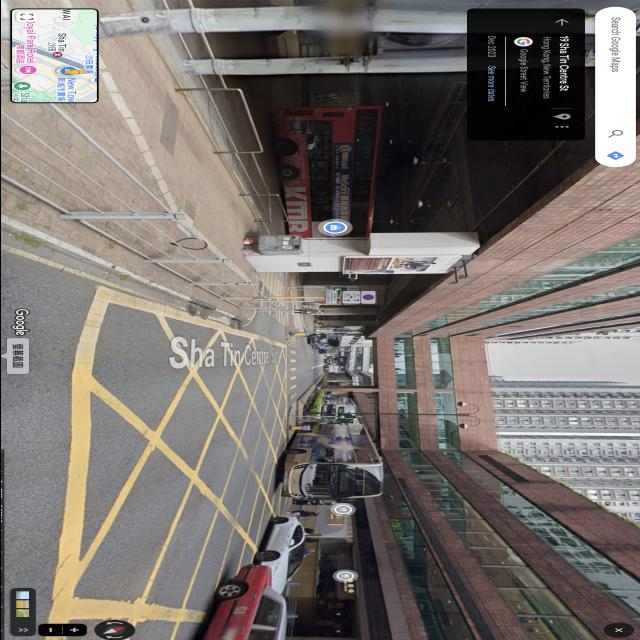Order-Sign: (342, 291, 374, 304), (302, 428, 308, 430), (304, 334, 310, 336)
